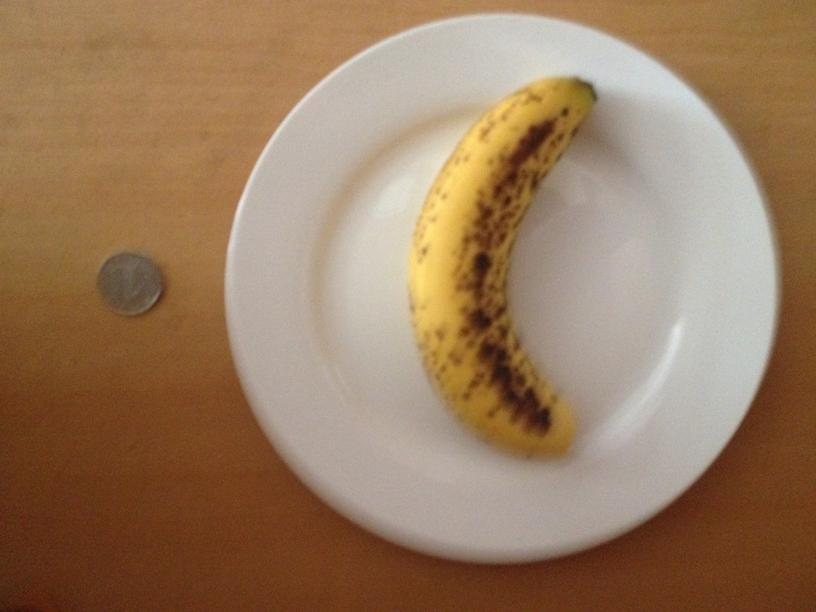banana: (411, 71, 582, 455)
coin: (96, 251, 161, 315)
